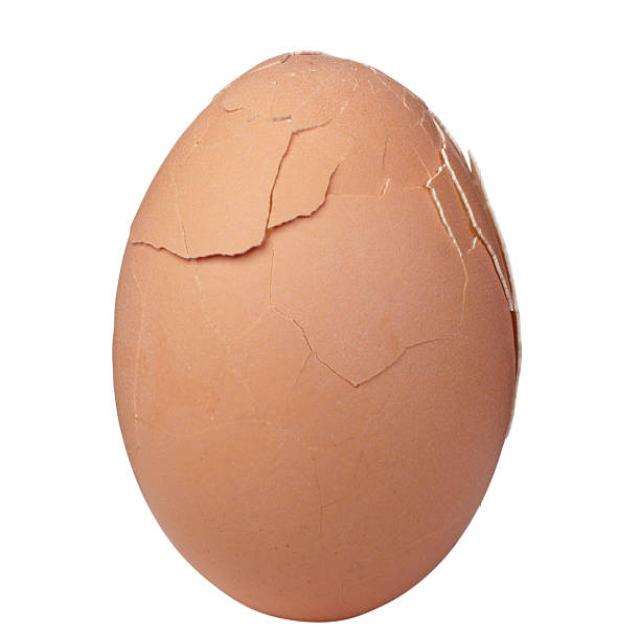Crack: (103, 46, 528, 437)
Egg: (62, 29, 605, 631)
